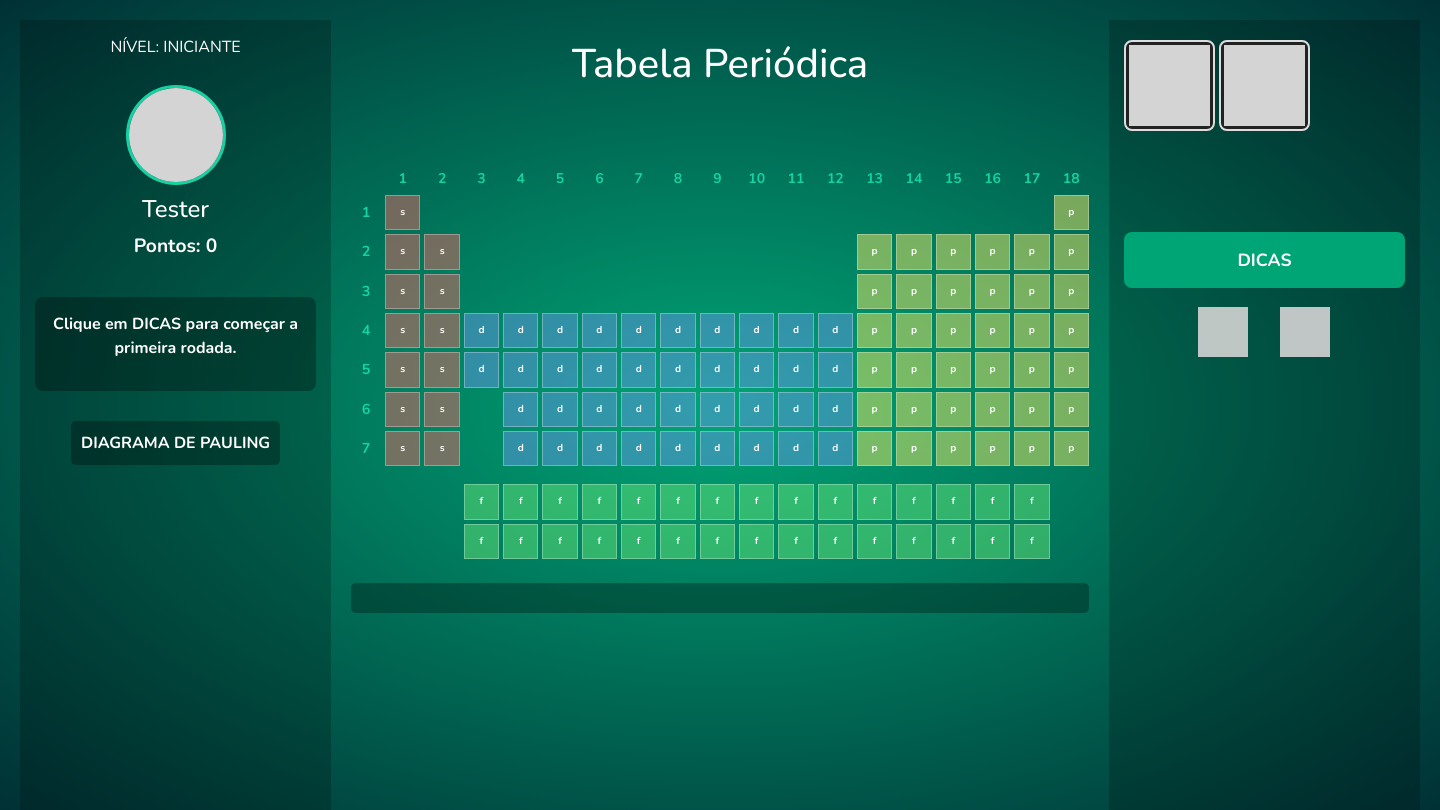
Página JogoPage › Deve desabilitar o botão de dicas se todas já foram exibidas
Click the button "DICAS": {"x": 1264, "y": 260} 1124,232 -> 1405,288
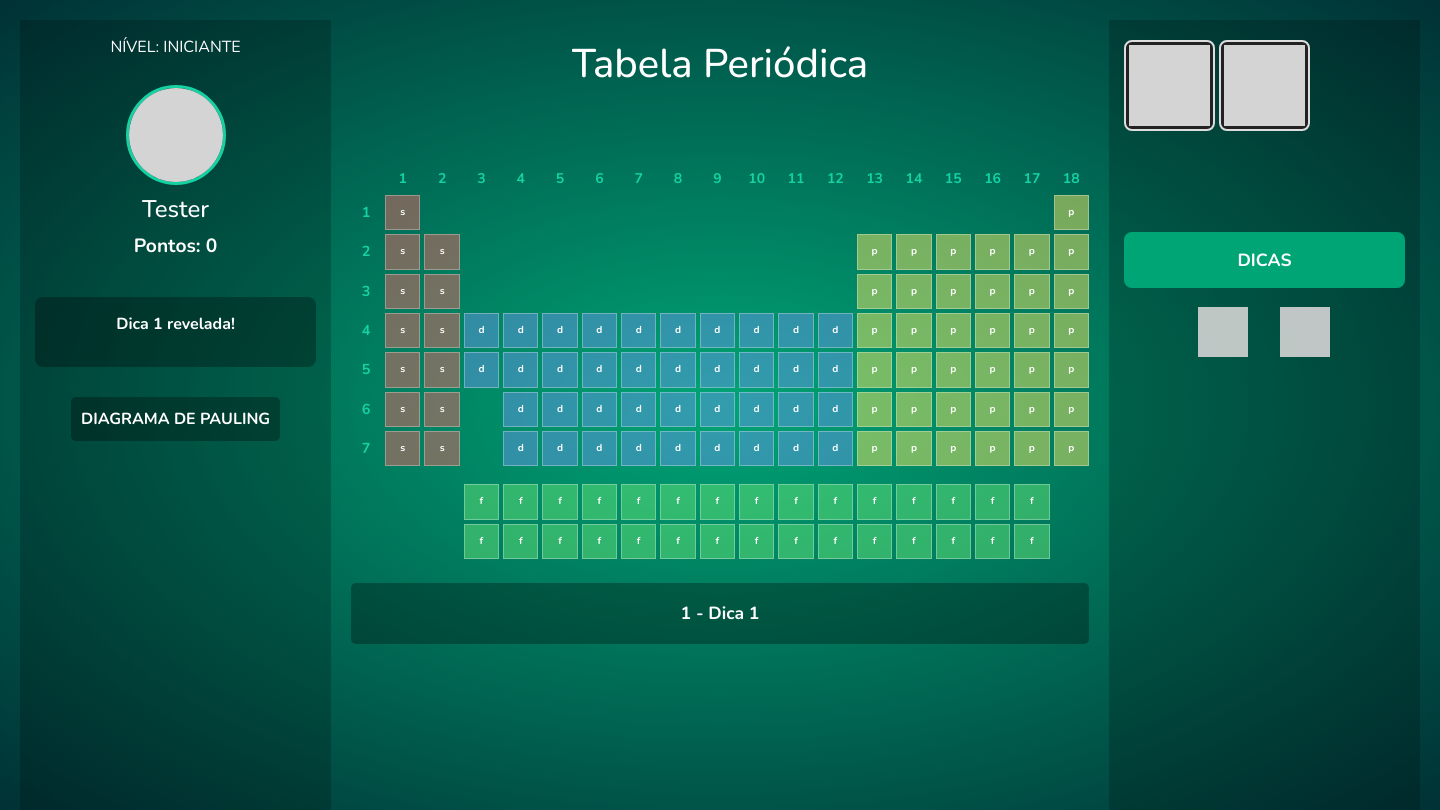
Expected: the heading "1 - Dica 1" is shown, 681,601 -> 759,625
Click the button "DICAS": {"x": 1264, "y": 260} 1124,232 -> 1405,288
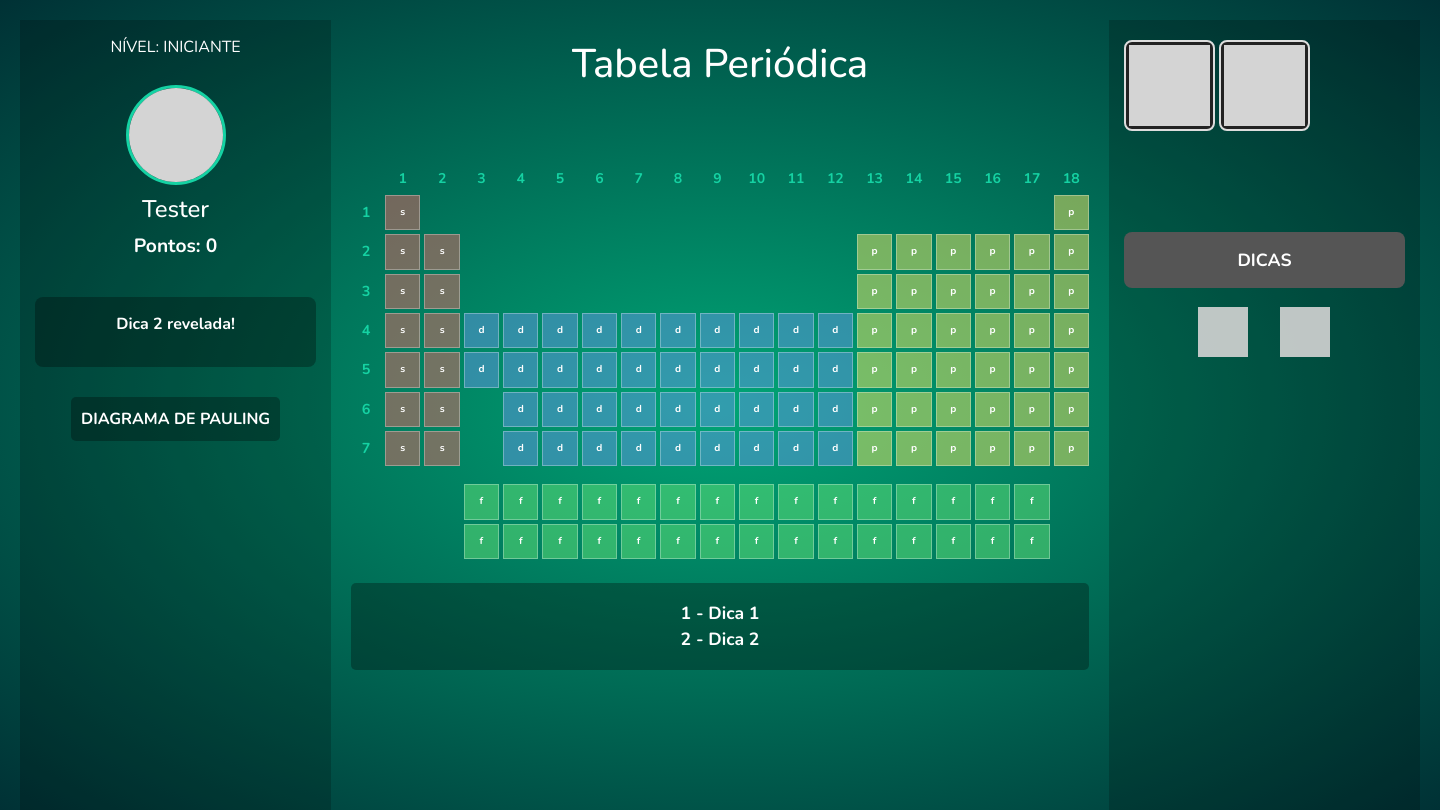
Expected: the heading "2 - Dica 2" is shown, 681,627 -> 759,651
Expected: the button "DICAS" is disabled, 1124,232 -> 1405,288
